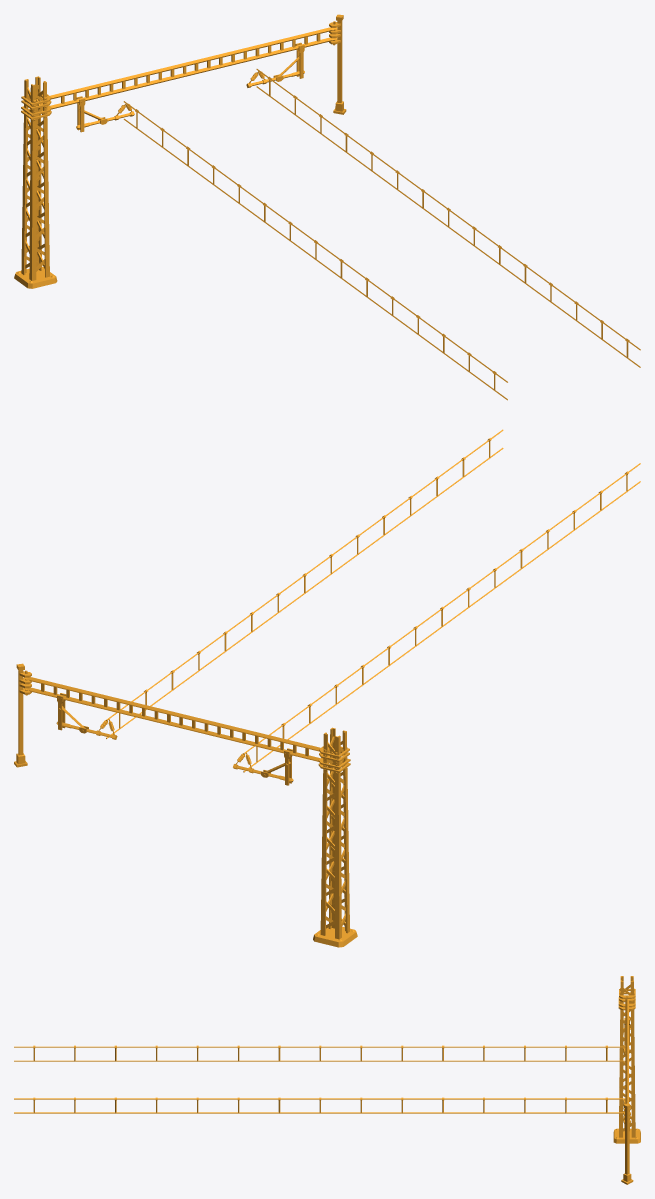
File: SM_Train_Wiring_Double_Roof_Semi.fbx
3 renders of one model, top to bottom at view 1: azimuth 30°, elevation 25°; view 2: azimuth 150°, elevation 25°; view 3: azimuth 270°, elevation 25°, orthographic. The views are drawn at different scales.
Parts seen in each view (by area): view 1: SM_Train_Wiring_Double_Roof_Semi; view 2: SM_Train_Wiring_Double_Roof_Semi; view 3: SM_Train_Wiring_Double_Roof_Semi.
Part boxes in pixels (x1,y1,x2,y2): SM_Train_Wiring_Double_Roof_Semi: (14,14,640,400); SM_Train_Wiring_Double_Roof_Semi: (14,429,640,947); SM_Train_Wiring_Double_Roof_Semi: (14,976,640,1184).
Size of the model in its own units: 14.71 by 8.58 by 30.67.
